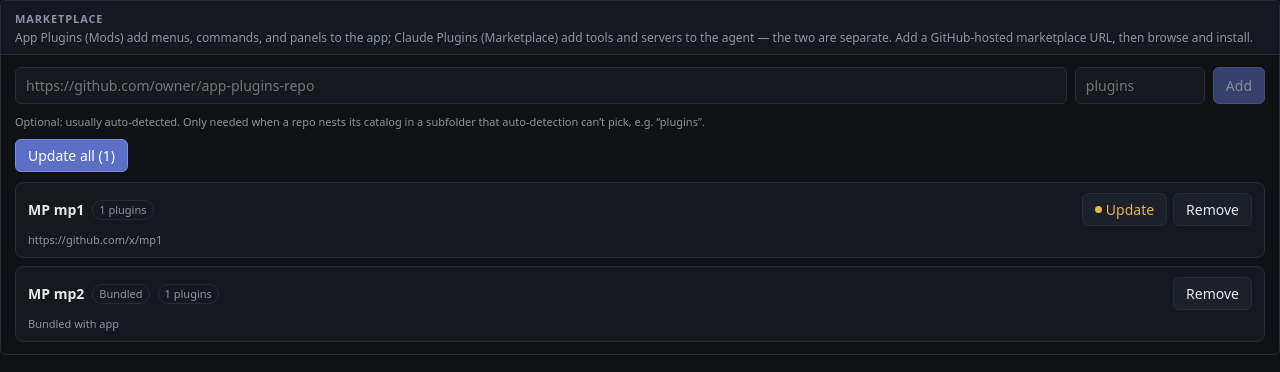
AppPluginMarketplaceSection Update all › refreshes https marketplaces, discovers, and reinstalls the updated plugin; skips local
Click the button "Update all (1)". click: [72, 156]
box: [15,139,128,172]
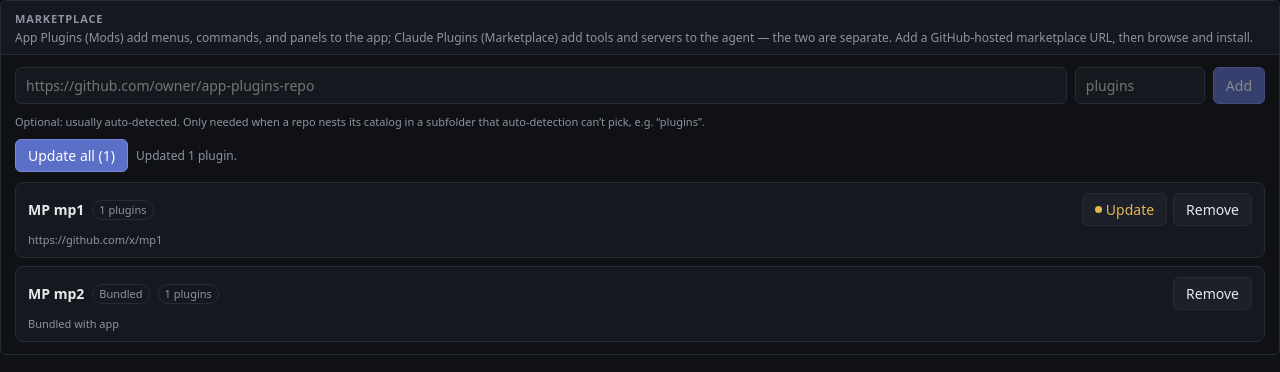
Expected: the text "Updated 1 plugin." is shown, [136,147,237,164]
